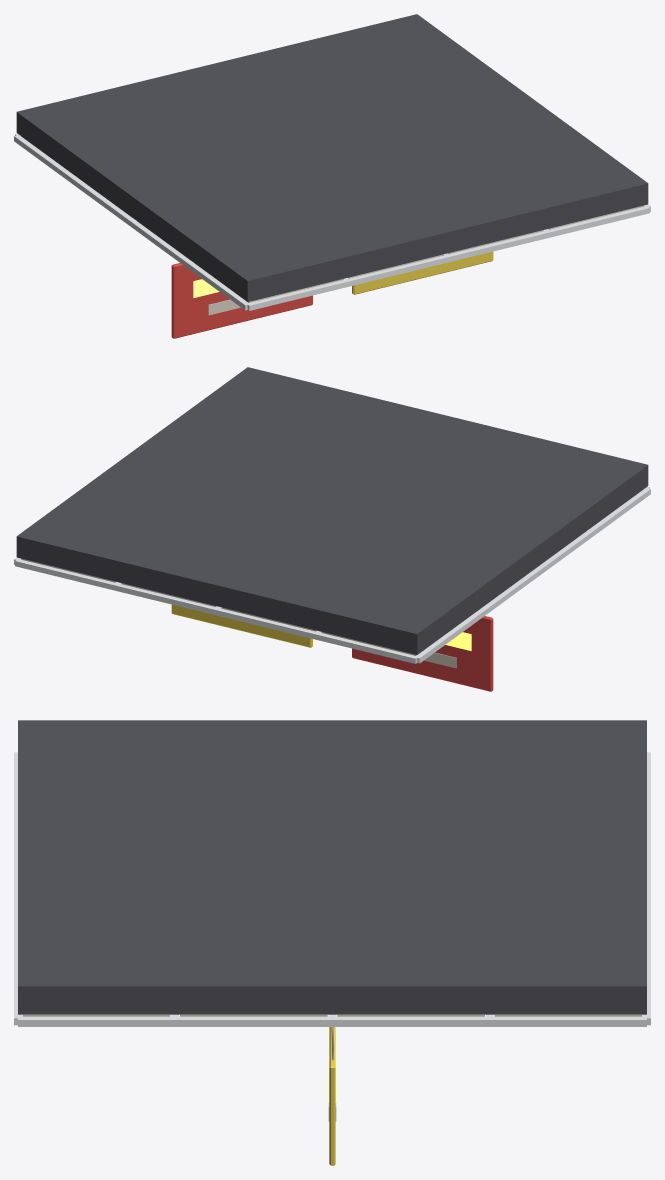
The model's file is ceil_mp_sign.glb.
The picture shows the model from 3 angles, top to bottom: view 1: azimuth 30°, elevation 25°; view 2: azimuth 150°, elevation 25°; view 3: azimuth 270°, elevation 25°; orthographic projection. The views are drawn at different scales.
Visible parts, largest first — view 1: ceil_mp_sign; view 2: ceil_mp_sign; view 3: ceil_mp_sign.
Part boxes in pixels (x1=…): ceil_mp_sign: x1=14, y1=14, x2=650, y2=338; ceil_mp_sign: x1=14, y1=367, x2=650, y2=691; ceil_mp_sign: x1=14, y1=720, x2=650, y2=1165.
Size of the model in its own units: 4.05 by 1.45 by 4.05.
